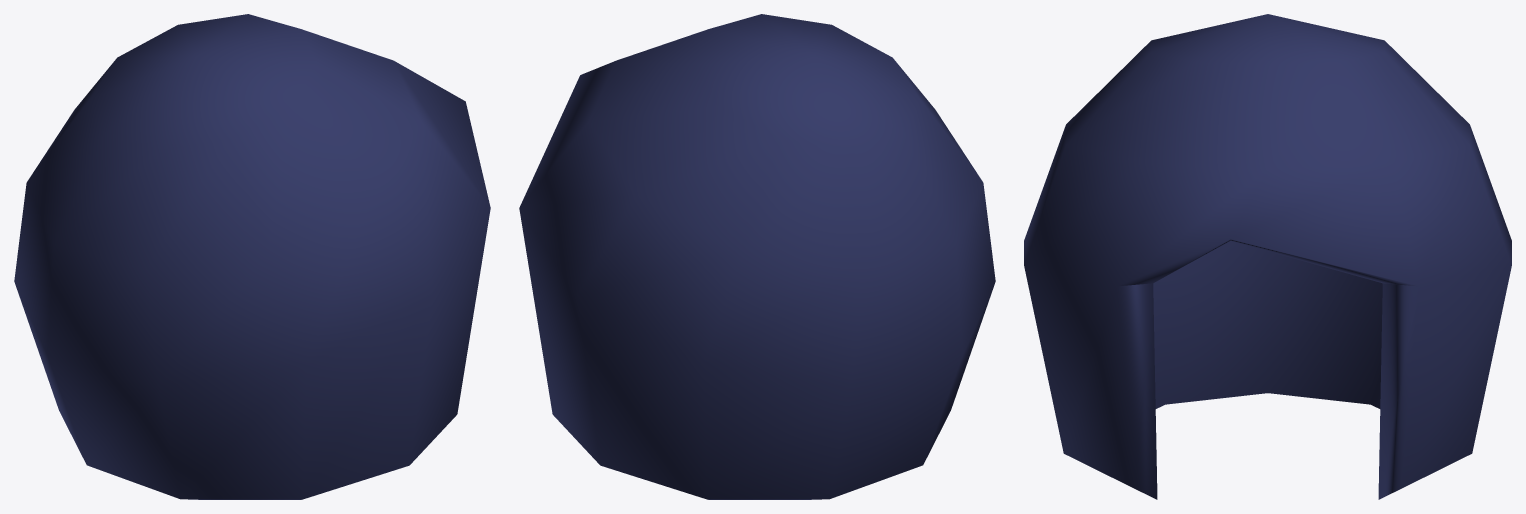
The model's file is TherapyAttachmentHead01.fbx.
The picture shows the model from 3 angles, left to right: view 1: azimuth 30°, elevation 25°; view 2: azimuth 150°, elevation 25°; view 3: azimuth 270°, elevation 25°; orthographic projection. The views are drawn at different scales.
Visible parts, largest first — view 1: pSphere3; view 2: pSphere3; view 3: pSphere3.
Boxes of the visible parts, x1,y1,x2,y2 form: pSphere3: (14, 14, 490, 499); pSphere3: (519, 14, 995, 499); pSphere3: (1024, 14, 1511, 499).
Size of the model in its own units: 158 by 151 by 160.
